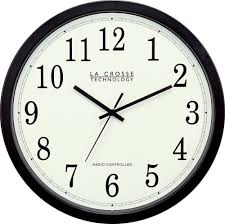alarm_clock: (0, 2, 222, 220)
